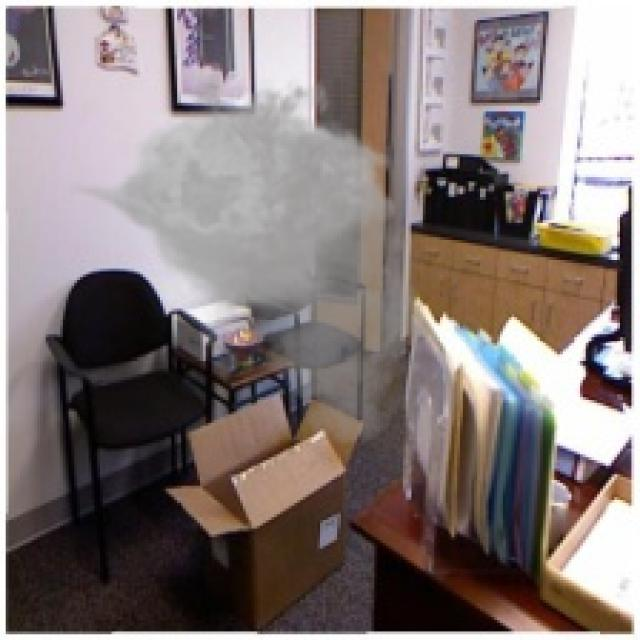smoke: (66, 54, 434, 452)
